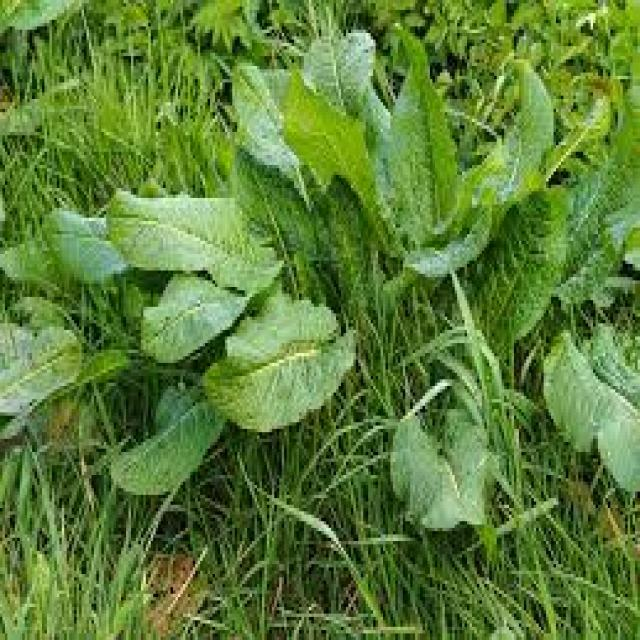organic waste: (37, 33, 640, 538)
